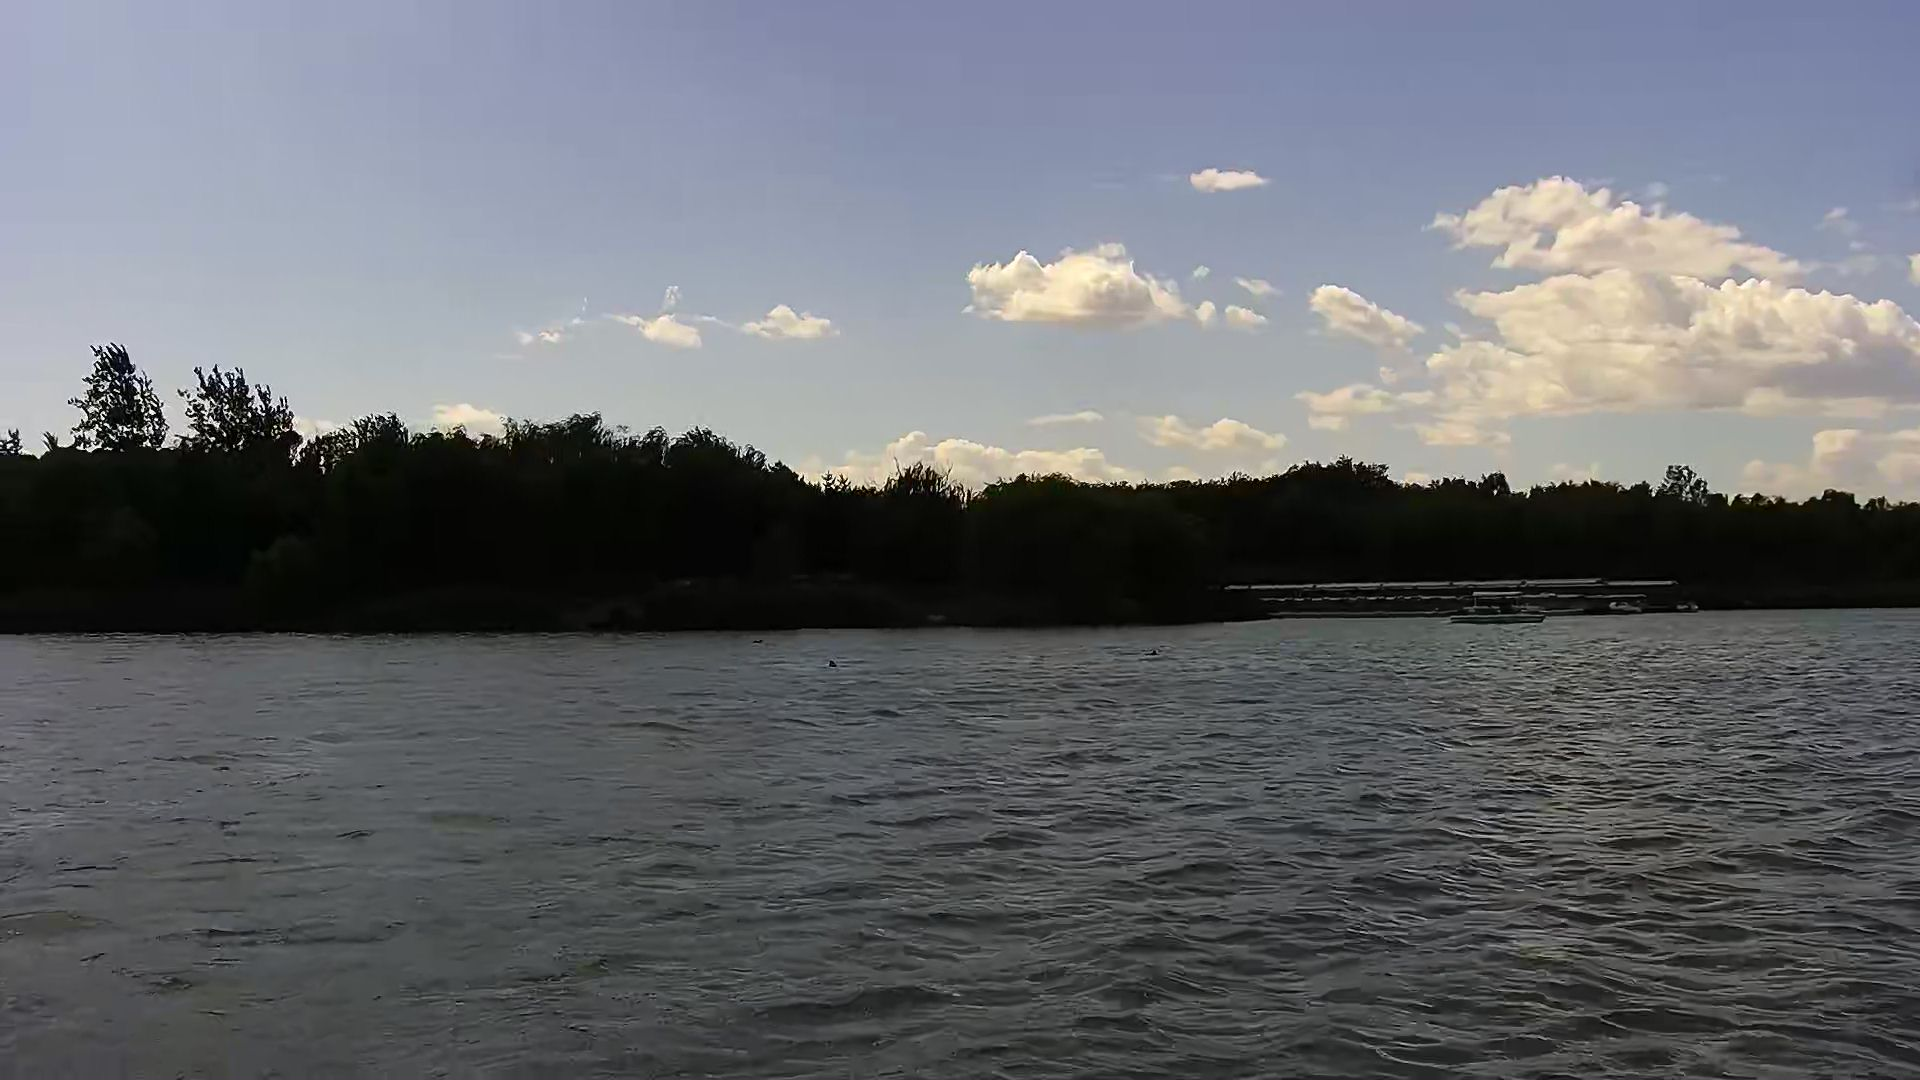boat: (1443, 589, 1555, 630)
harbor: (1215, 579, 1677, 620)
